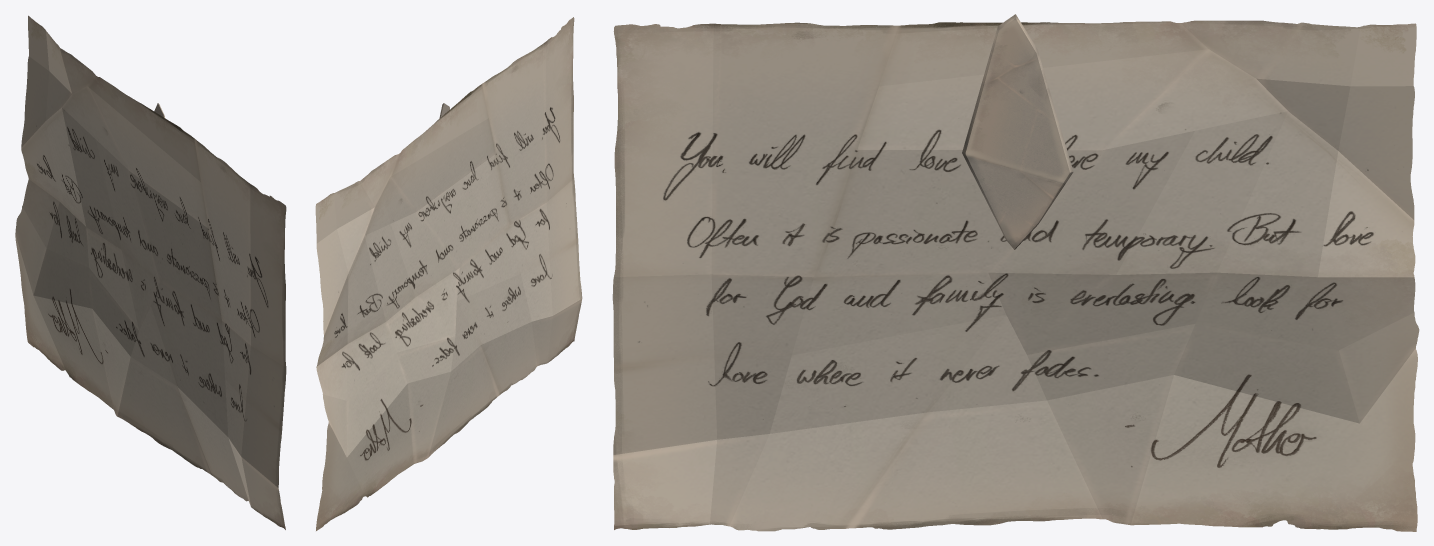
The model's file is MDL_Letter_Models_01.fbx.
3 renders of one model, left to right at view 1: azimuth 30°, elevation 25°; view 2: azimuth 150°, elevation 25°; view 3: azimuth 270°, elevation 25°, orthographic. The views are drawn at different scales.
Parts seen in each view (by area): view 1: MDL_Opened_Paper_01; view 2: MDL_Opened_Paper_01; view 3: MDL_Opened_Paper_01, MDL_Folded_Paper_01.
Part boxes in pixels (<box>): MDL_Opened_Paper_01: <box>15,15,286,529</box>; MDL_Opened_Paper_01: <box>315,17,582,530</box>; MDL_Opened_Paper_01: <box>612,20,1419,531</box>; MDL_Folded_Paper_01: <box>962,14,1073,249</box>.
Bounding box in the file's own units: 3.25 × 54.17 × 76.54.
